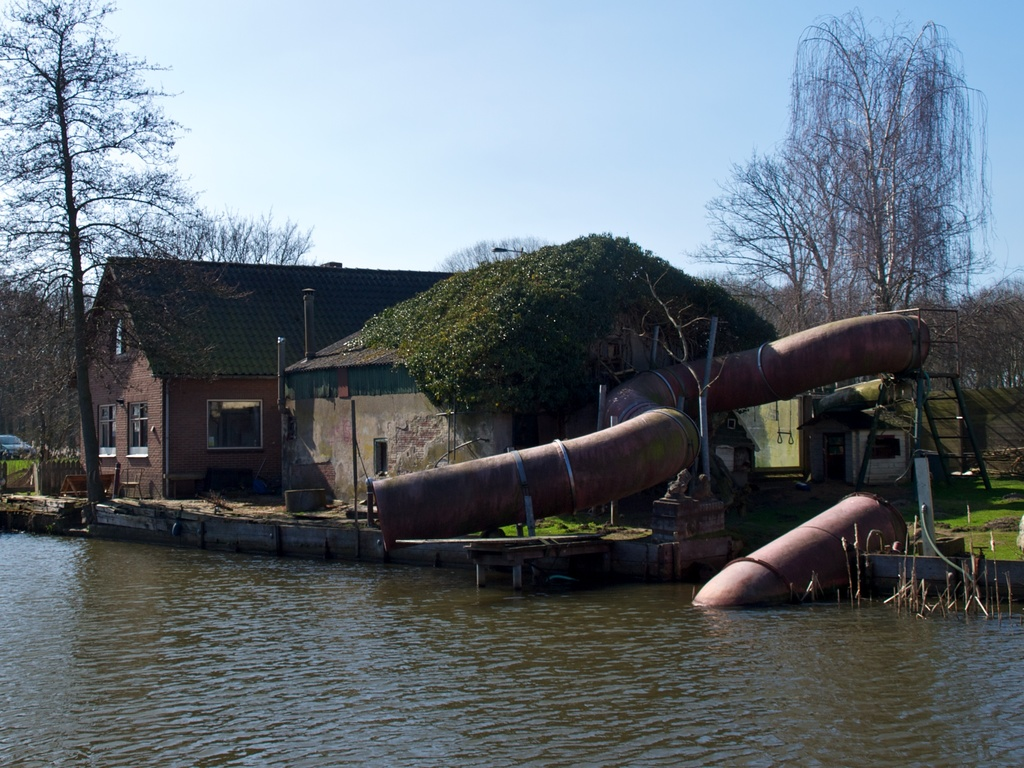Tree: (0, 0, 321, 508), (718, 23, 1004, 353)
